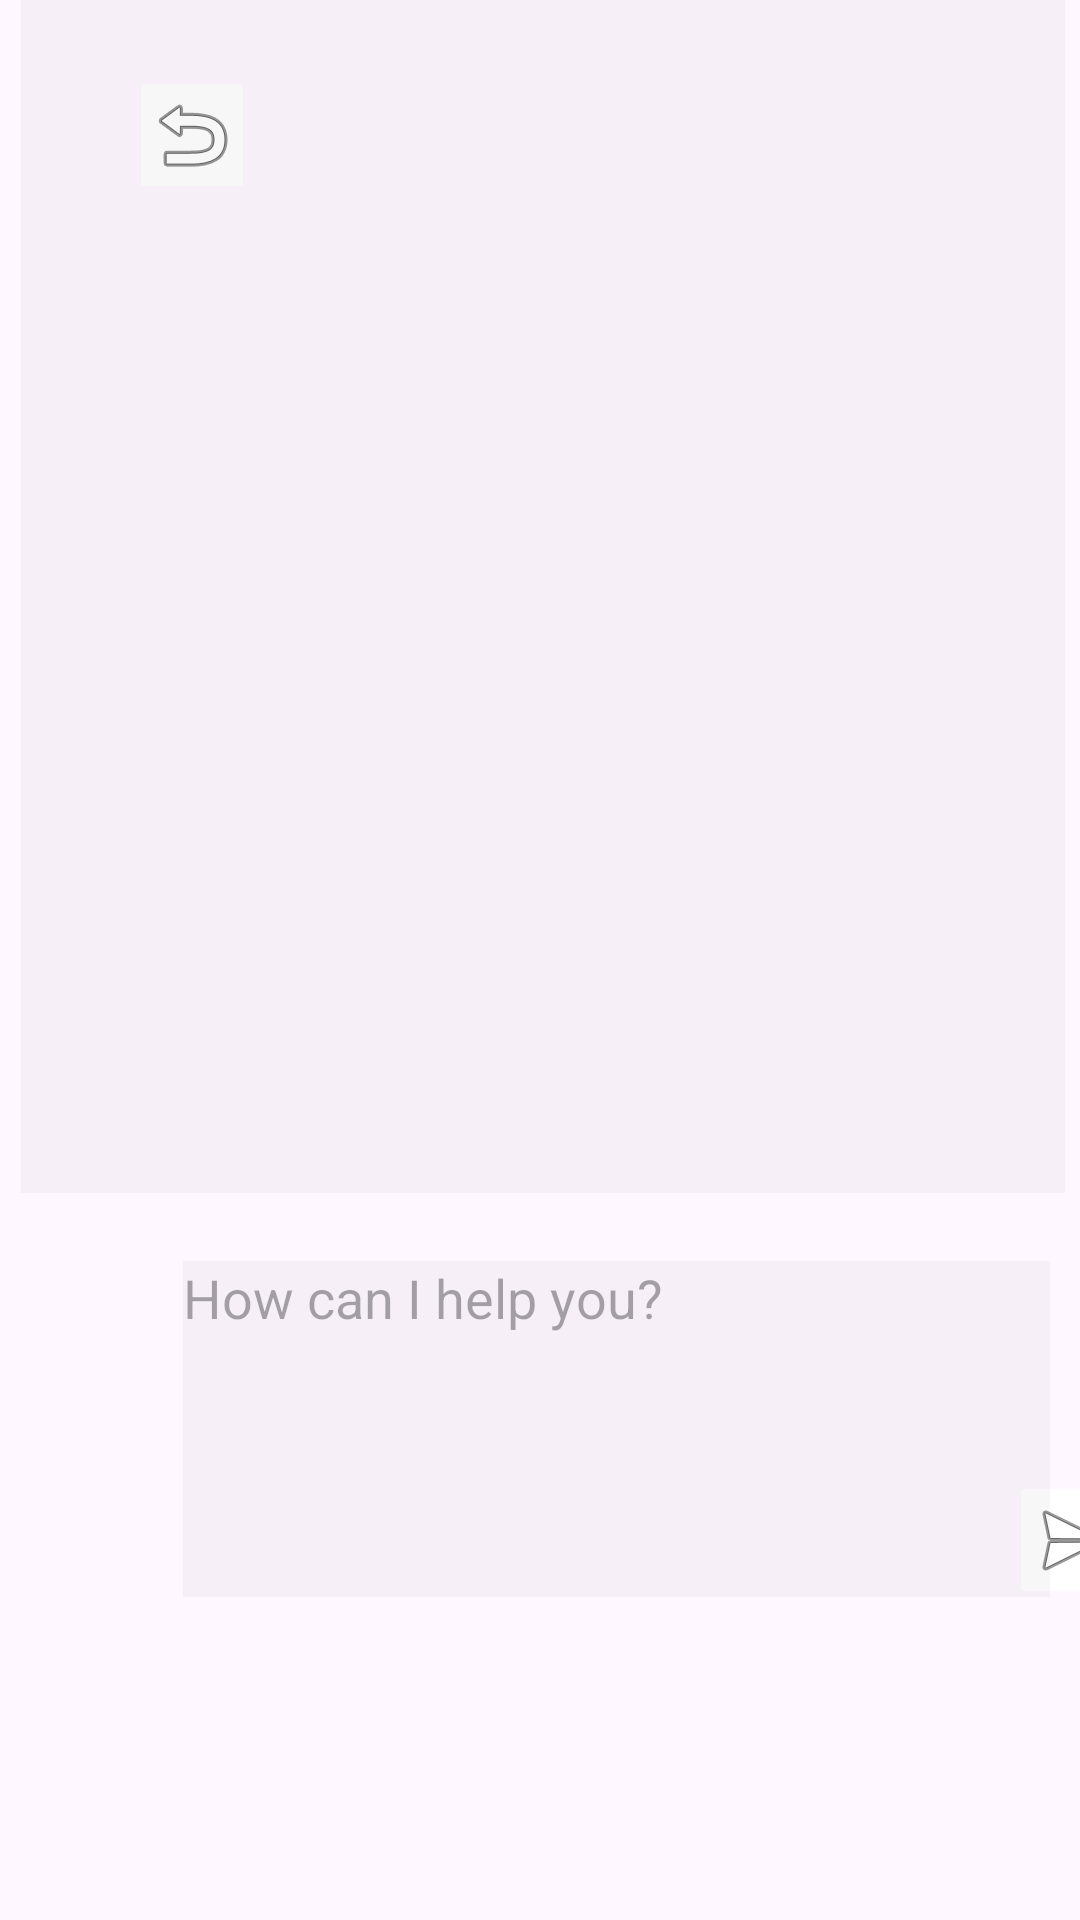

Named icons in this screenshot (1080px×1920px) and their centers, (x=x, y=y):
revert: (x=193, y=135)
